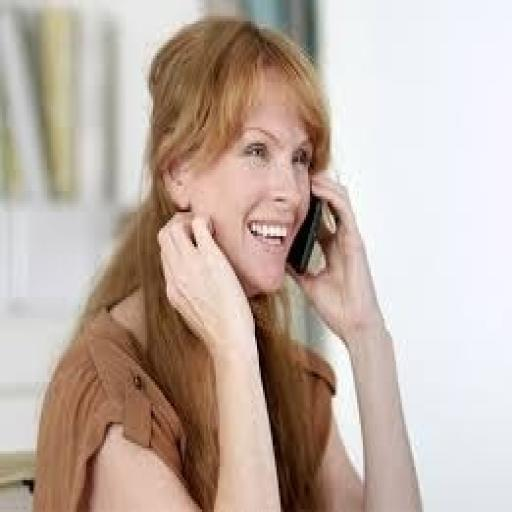calling: (26, 11, 428, 509)
